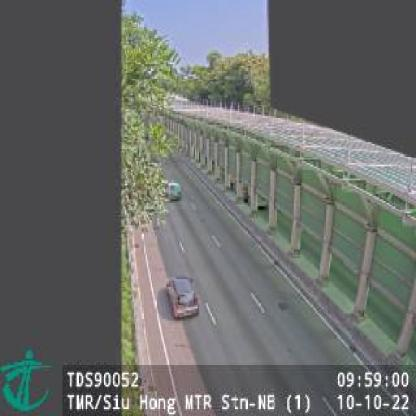Car: (164, 278, 200, 319), (166, 179, 181, 200)
